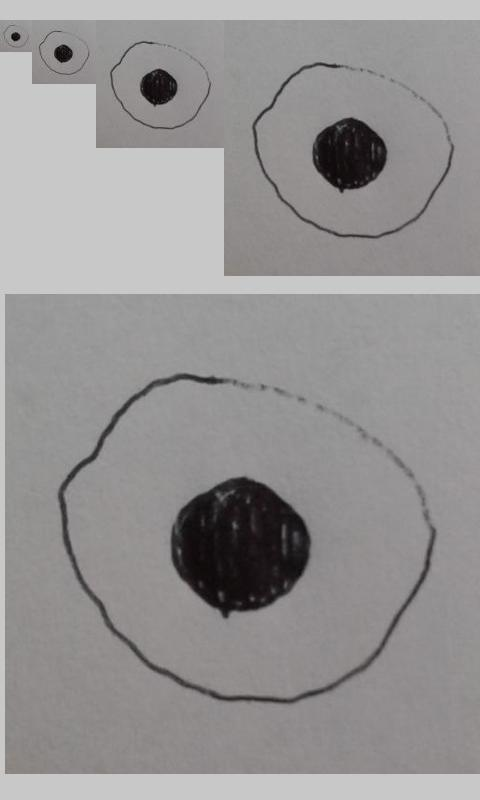radio_button: (55, 369, 438, 706), (251, 58, 457, 241), (109, 39, 212, 130), (38, 29, 91, 76), (2, 23, 30, 48)
